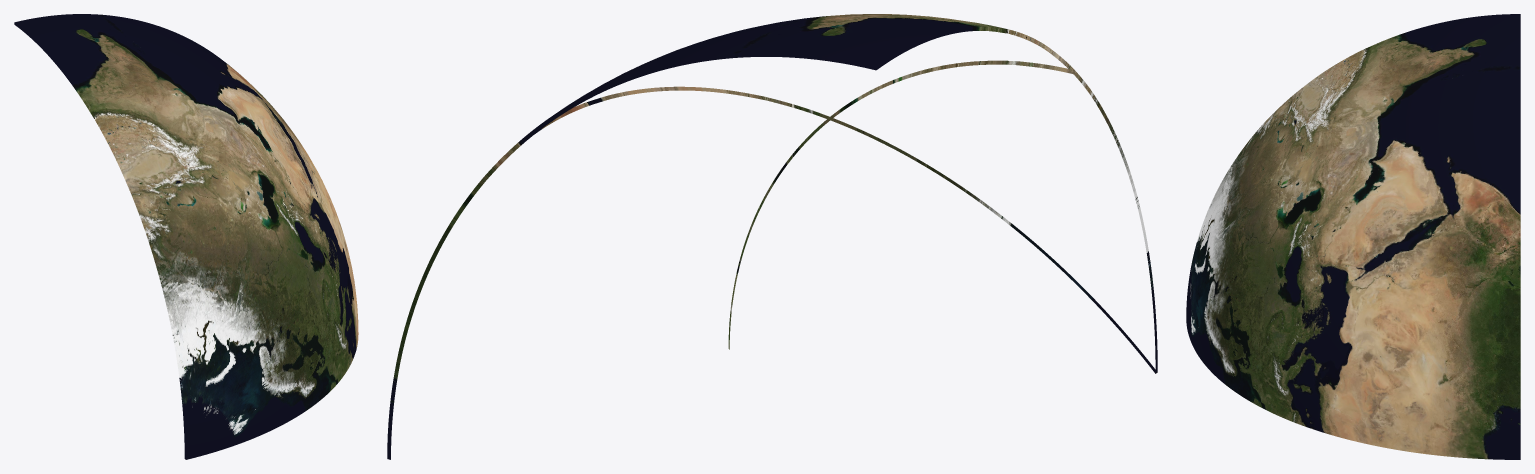
3 renders of one model, left to right at view 1: azimuth 30°, elevation 25°; view 2: azimuth 150°, elevation 25°; view 3: azimuth 270°, elevation 25°, orthographic. The views are drawn at different scales.
Parts seen in each view (by area): view 1: DefaultName.006, DefaultName.009, DefaultName.012, DefaultName.003; view 2: DefaultName.006, DefaultName.003, DefaultName.009, DefaultName.012; view 3: DefaultName.003, DefaultName.006, DefaultName.012, DefaultName.009.
Boxes of the visible parts, bbox=[...] form: DefaultName.006: bbox=[14, 14, 286, 229]; DefaultName.009: bbox=[135, 196, 284, 459]; DefaultName.012: bbox=[186, 230, 346, 459]; DefaultName.003: bbox=[238, 73, 358, 370]; DefaultName.006: bbox=[530, 14, 1074, 135]; DefaultName.003: bbox=[387, 86, 830, 459]; DefaultName.009: bbox=[830, 60, 1157, 373]; DefaultName.012: bbox=[728, 118, 1155, 373]; DefaultName.003: bbox=[1284, 203, 1520, 459]; DefaultName.006: bbox=[1284, 14, 1520, 236]; DefaultName.012: bbox=[1186, 237, 1284, 418]; DefaultName.009: bbox=[1186, 103, 1284, 313].
Bounding box in the file's own units: 63781 × 63781 × 63568.
Materials: 4 (4 with a texture image).
